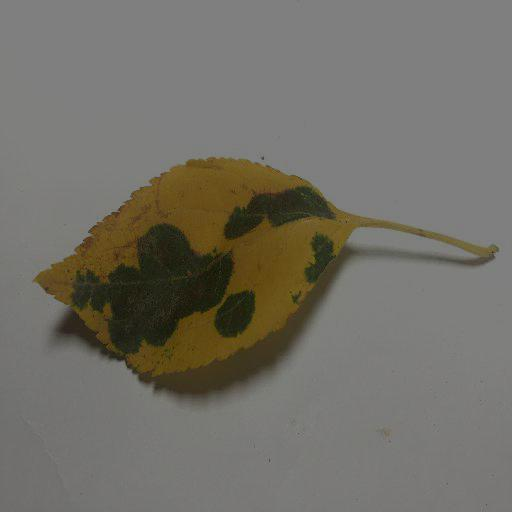Brown_Spot: (75, 250, 252, 353), (229, 184, 331, 227)
